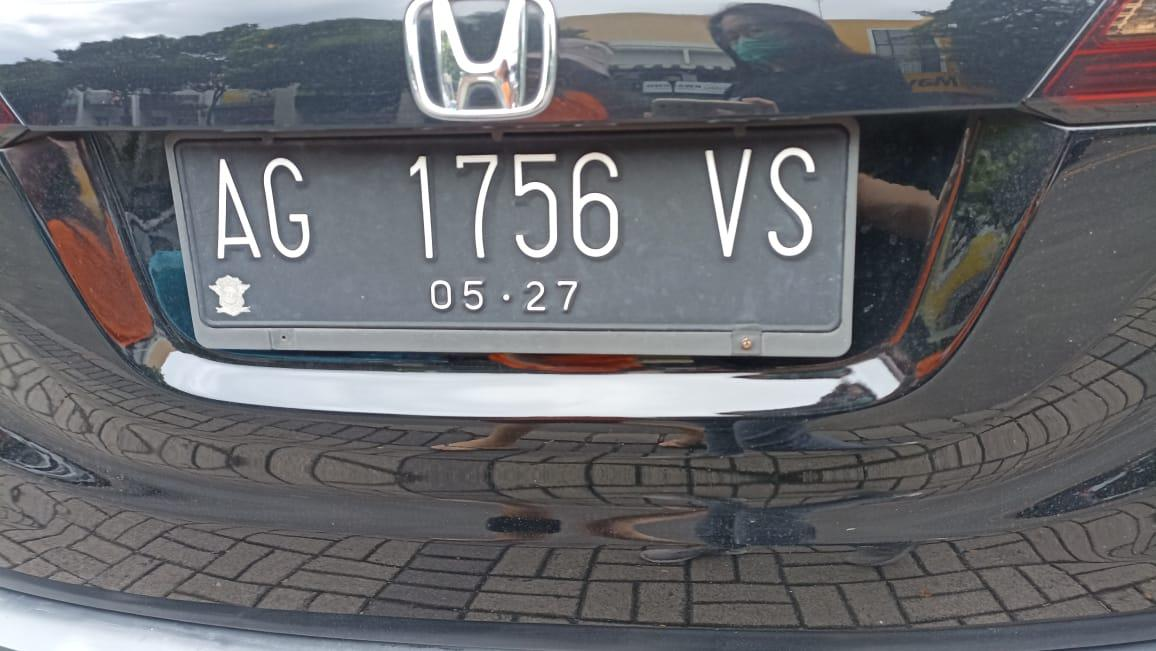plat: (167, 122, 858, 357)
